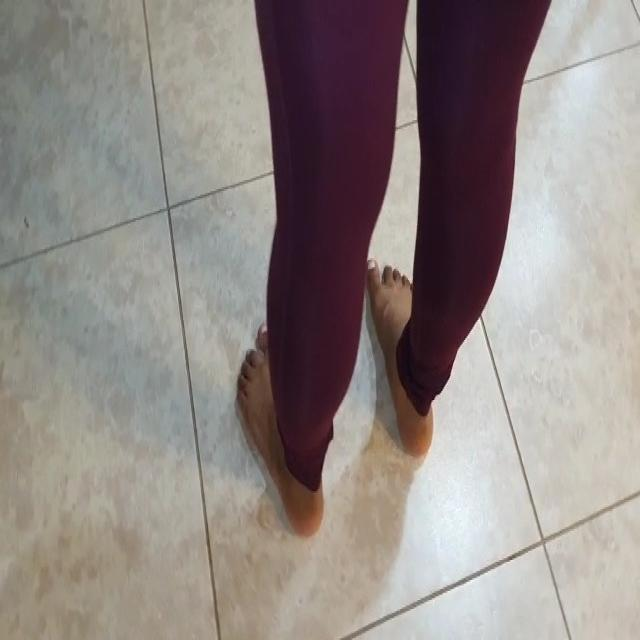no-boots: (236, 316, 335, 538), (368, 247, 444, 464)
